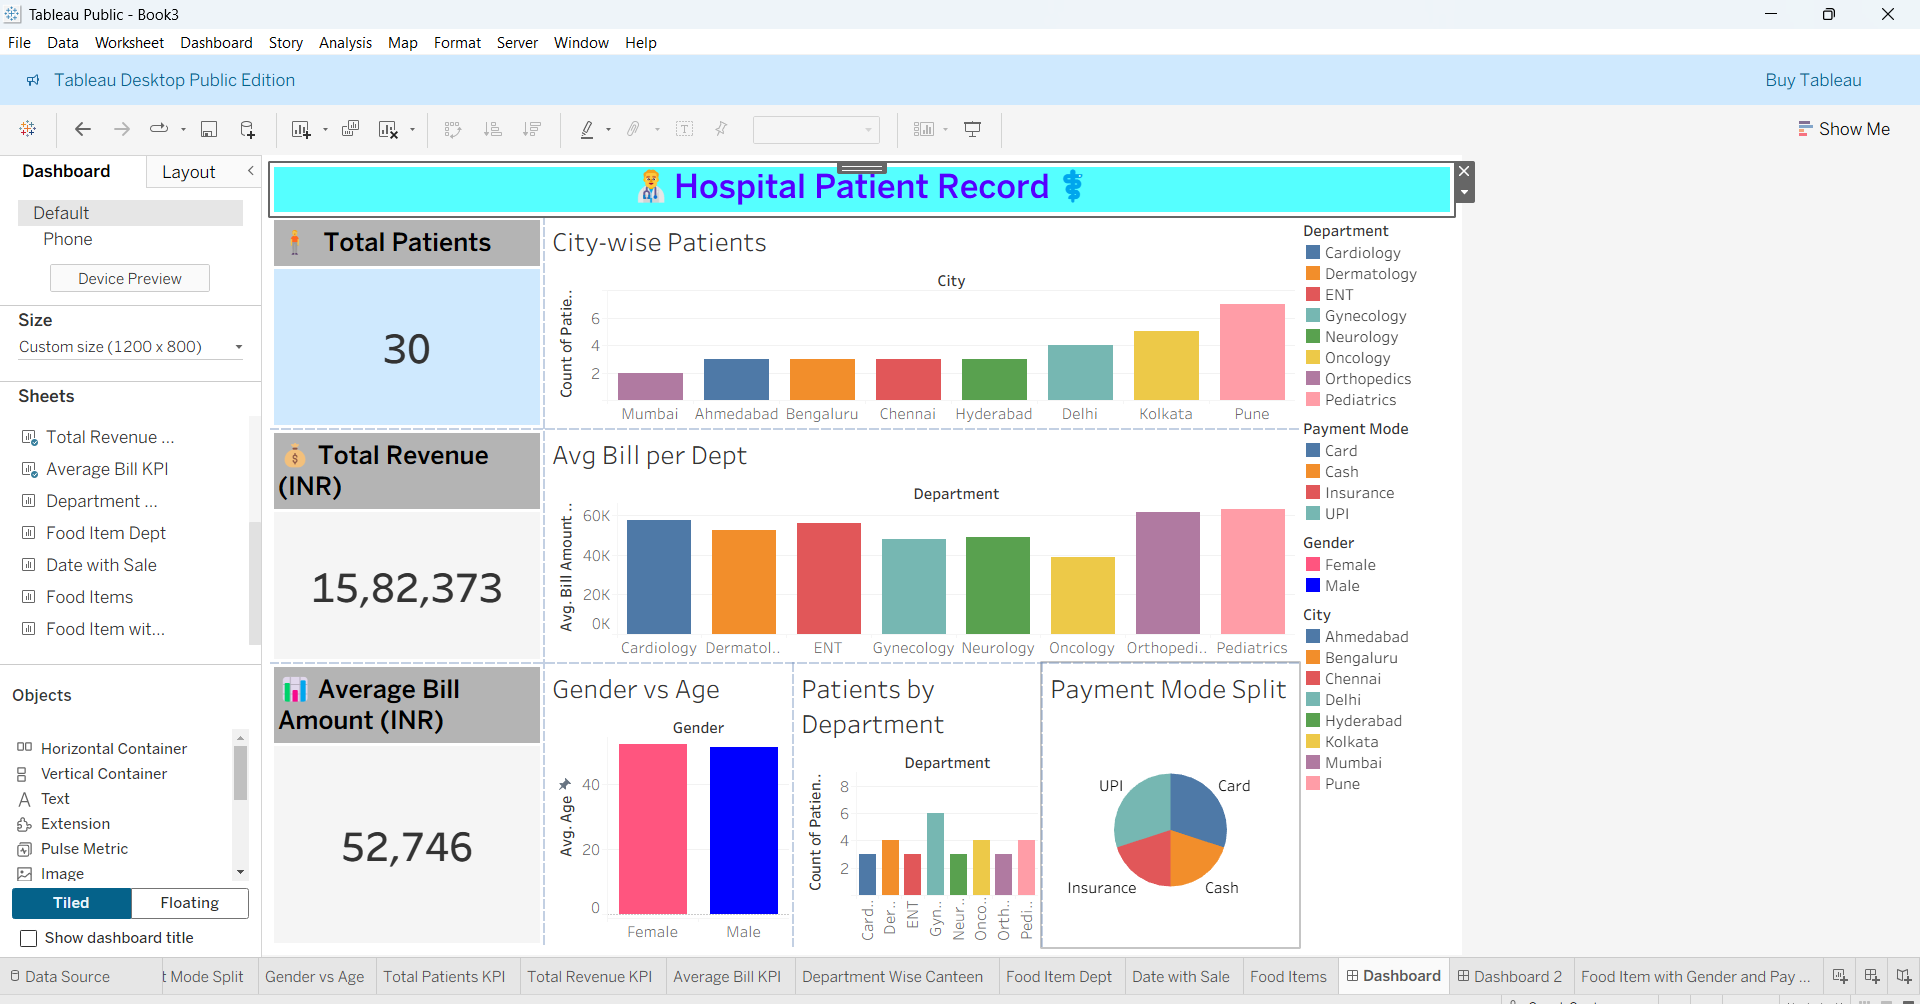

The dashboard page shown, as its layout file describes it:
{"tool":"tableau","page":{"name":"Dashboard","canvas":[1200,800],"ordinal":0},"visuals":[{"type":"text","box":[8,8,1184,53]},{"type":"worksheet","title":"Total Patients KPI","mark":"Automatic","box":[8,61,274,212.6]},{"type":"worksheet","title":"City-wise Patients","mark":"Automatic","rows":["Patient ID"],"cols":["City"],"box":[282,61,755,212.6]},{"type":"legend","title":"Patients by Department","param":"[federated.195p5wo1kpj8ya15xy6x90rrels8].[none:Department:nk]","box":[1037,61,155,198]},{"type":"legend","title":"Payment Mode Split","param":"[federated.195p5wo1kpj8ya15xy6x90rrels8].[none:Payment Mode:nk]","box":[1037,259,155,114]},{"type":"worksheet","title":"Total Revenue KPI","mark":"Automatic","box":[8,273.6,274.3,234]},{"type":"worksheet","title":"Avg Bill per Dept","mark":"Bar","rows":["Bill Amount (INR)"],"cols":["Department"],"box":[282.3,273.6,754.7,234]},{"type":"legend","title":"Gender vs Age","param":"[federated.195p5wo1kpj8ya15xy6x90rrels8].[none:Gender:nk]","box":[1037,373,155,72]},{"type":"legend","title":"City-wise Patients","param":"[federated.195p5wo1kpj8ya15xy6x90rrels8].[none:City:nk]","box":[1037,445,155,198]},{"type":"worksheet","title":"Average Bill KPI","mark":"Automatic","box":[8,507.6,274.3,284.4]},{"type":"worksheet","title":"Gender vs Age","mark":"Automatic","rows":["Age"],"cols":["Gender"],"box":[282.3,507.6,248.7,284.4]},{"type":"worksheet","title":"Patients by Department","mark":"Automatic","rows":["Patient ID"],"cols":["Department"],"box":[531,507.6,248.7,284.4]},{"type":"worksheet","title":"Payment Mode Split","mark":"Pie","box":[779.7,507.6,257.3,284.4]}]}

Visuals, with their boxes on the page's 1200x800 design canvas (x1, y1, x2, y2). These are canvas units, not pixel positions in the 1920x1004 screenshot, which may show the page scaled, cropped or inside an application window:
text: [left=8, top=8, right=1192, bottom=61]
"Total Patients KPI" worksheet: [left=8, top=61, right=282, bottom=274]
"City-wise Patients" worksheet: [left=282, top=61, right=1037, bottom=274]
"Patients by Department" legend: [left=1037, top=61, right=1192, bottom=259]
"Payment Mode Split" legend: [left=1037, top=259, right=1192, bottom=373]
"Total Revenue KPI" worksheet: [left=8, top=274, right=282, bottom=508]
"Avg Bill per Dept" worksheet (Bar marks): [left=282, top=274, right=1037, bottom=508]
"Gender vs Age" legend: [left=1037, top=373, right=1192, bottom=445]
"City-wise Patients" legend: [left=1037, top=445, right=1192, bottom=643]
"Average Bill KPI" worksheet: [left=8, top=508, right=282, bottom=792]
"Gender vs Age" worksheet: [left=282, top=508, right=531, bottom=792]
"Patients by Department" worksheet: [left=531, top=508, right=780, bottom=792]
"Payment Mode Split" worksheet (Pie marks): [left=780, top=508, right=1037, bottom=792]
